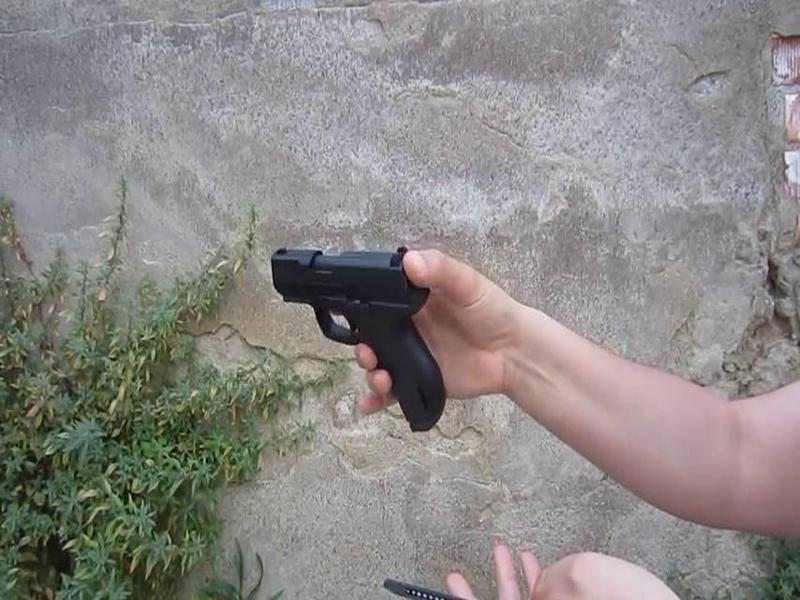Pistola: (260, 214, 465, 462)
